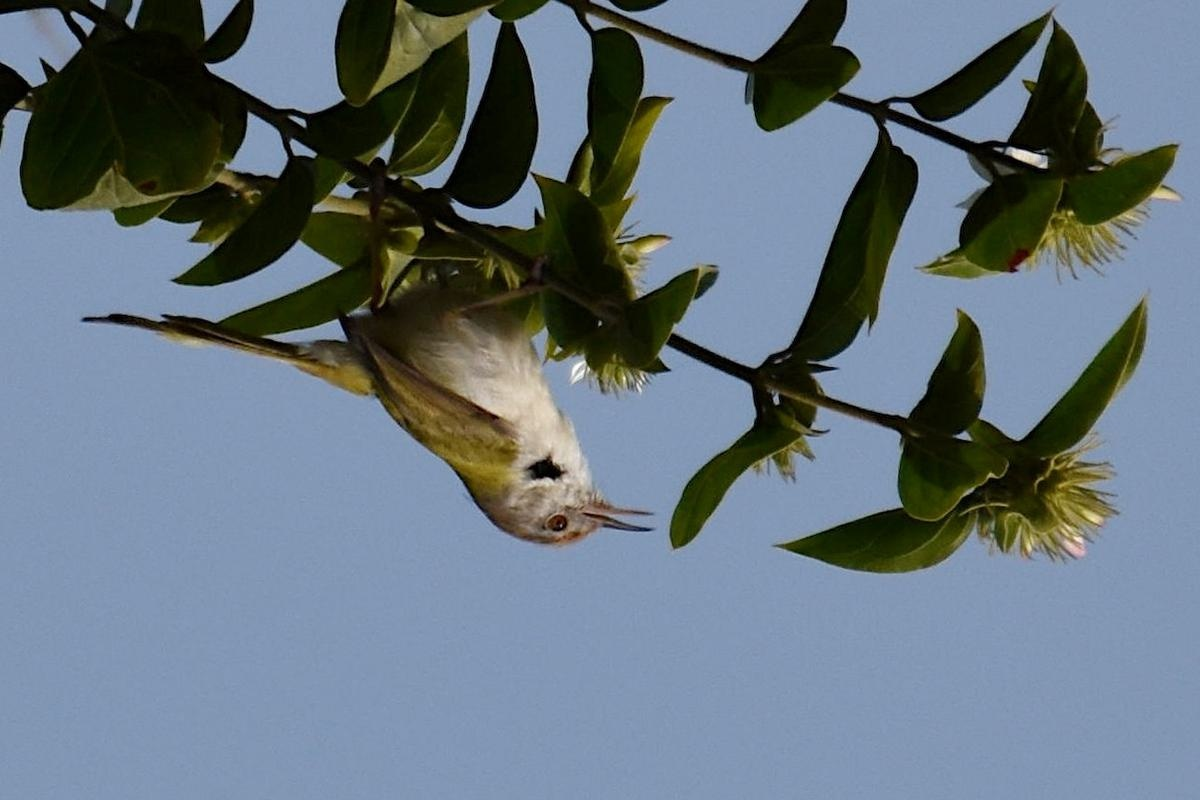tailorbird: (114, 265, 678, 578)
